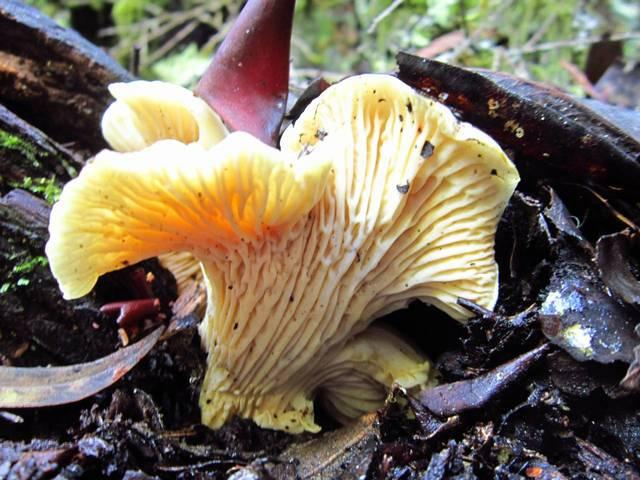Edible Mushroom: (44, 70, 521, 435)
